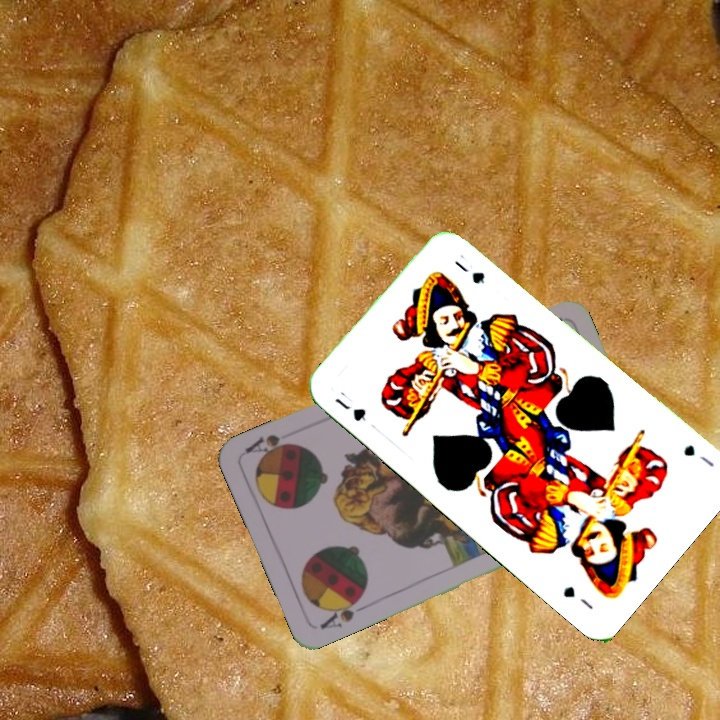GU: (330, 393, 369, 425), (679, 440, 717, 470)
SA: (315, 591, 371, 632)
